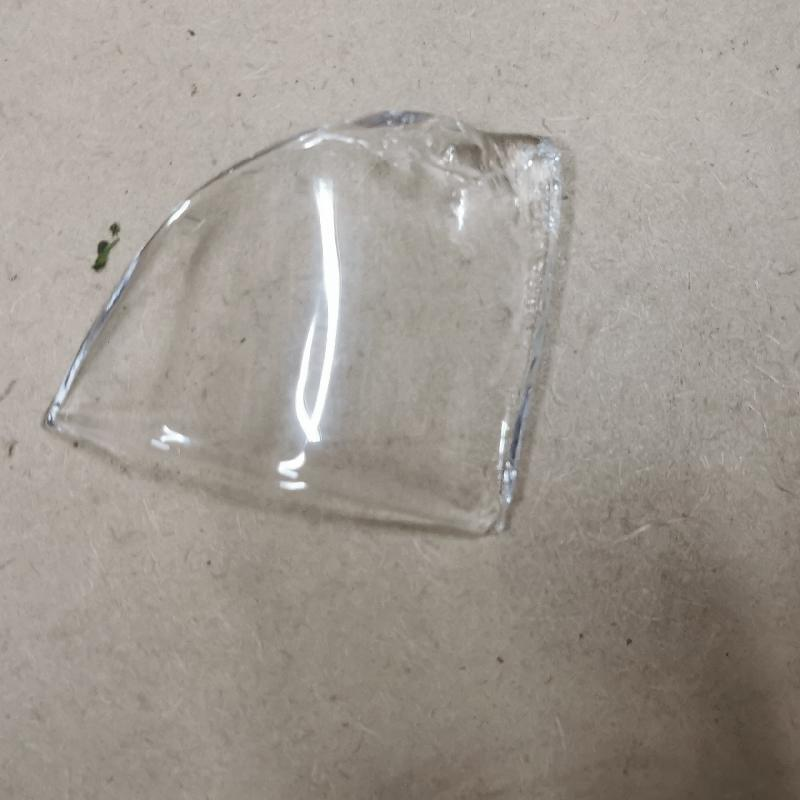glass: (45, 109, 568, 539)
